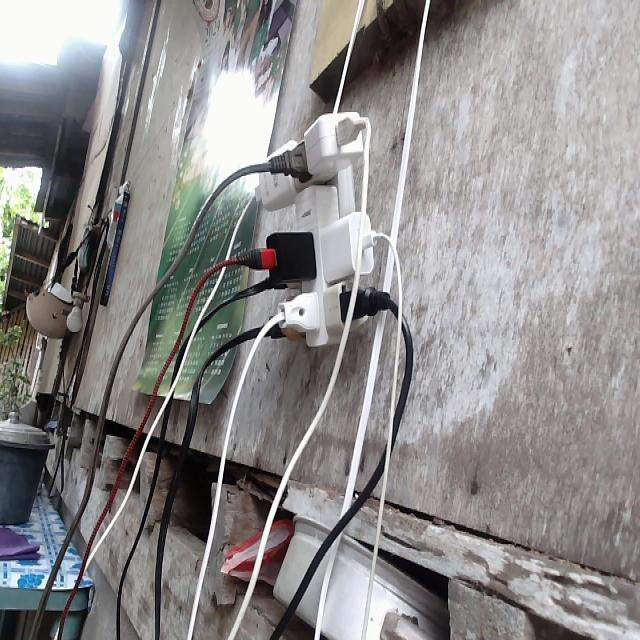-: (254, 107, 378, 352)
